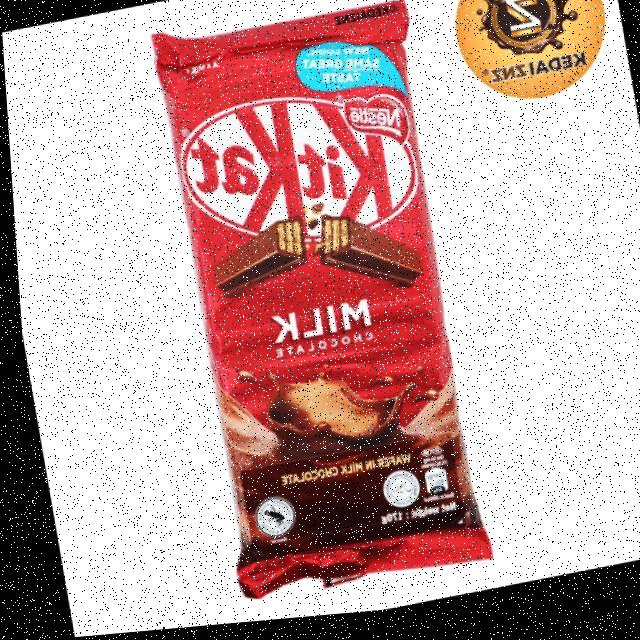kitkat: (140, 0, 494, 605)
